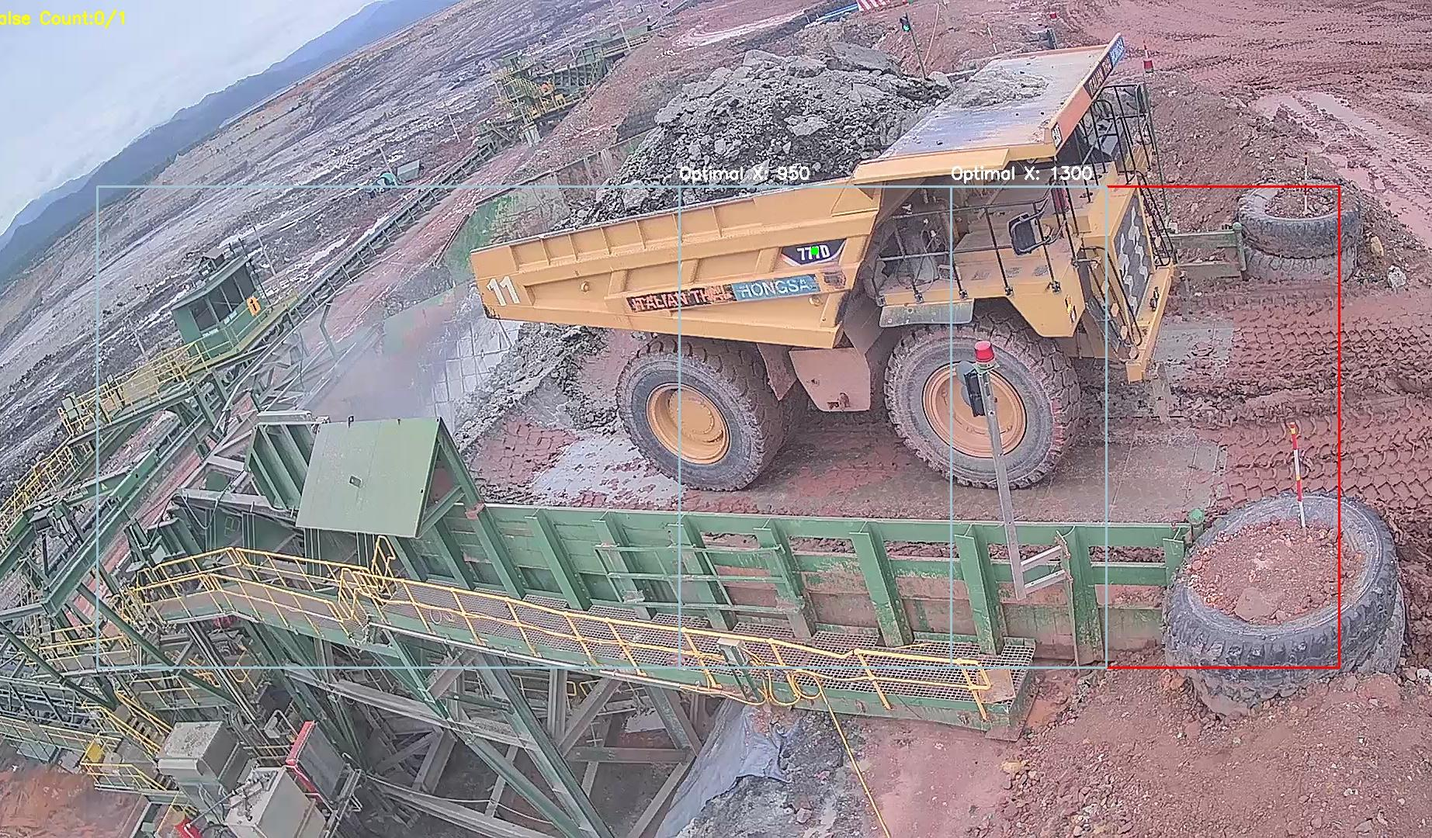company: (613, 267, 833, 320)
full_load: (628, 43, 898, 202)
mining_truck: (468, 22, 1203, 493)
tail_number: (481, 264, 533, 320)
truck_size: (781, 237, 846, 266)
